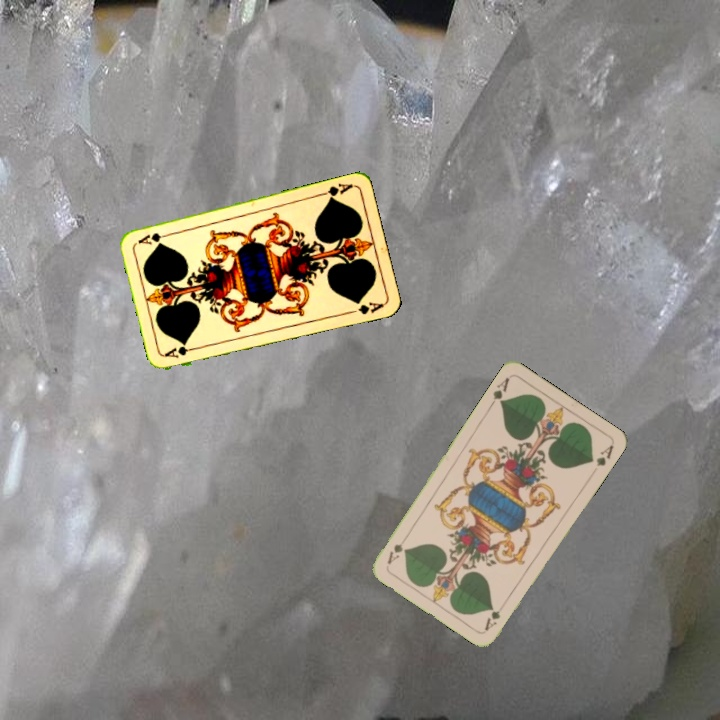GA: (486, 373, 512, 410), (316, 179, 356, 203), (161, 343, 202, 361), (480, 606, 503, 633)
